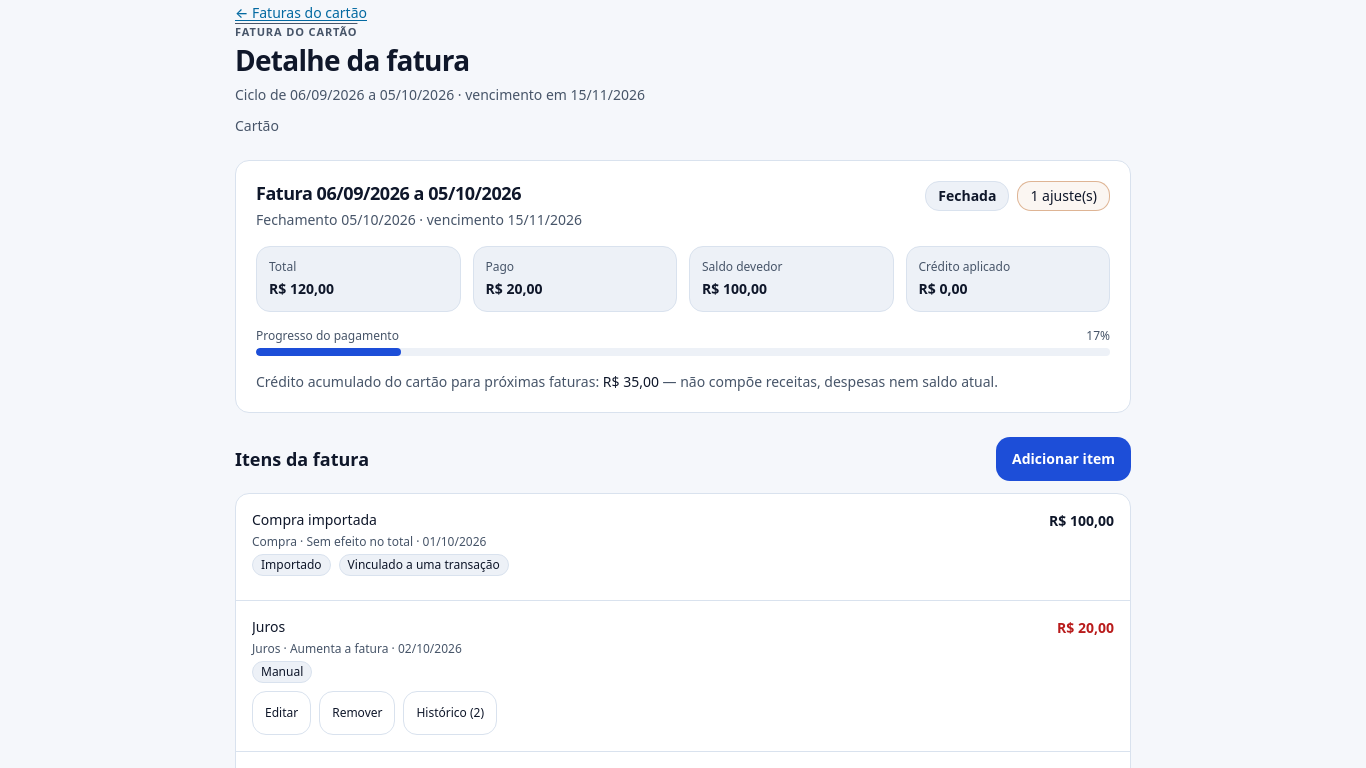
Scenario: detalhe da fatura › adiciona item manual e abre histórico de correções
Expected: the text "Juros" is shown, [252,617,285,636]
Click the button "Adicionar item". click: click(1064, 459)
box: [996,437,1131,481]
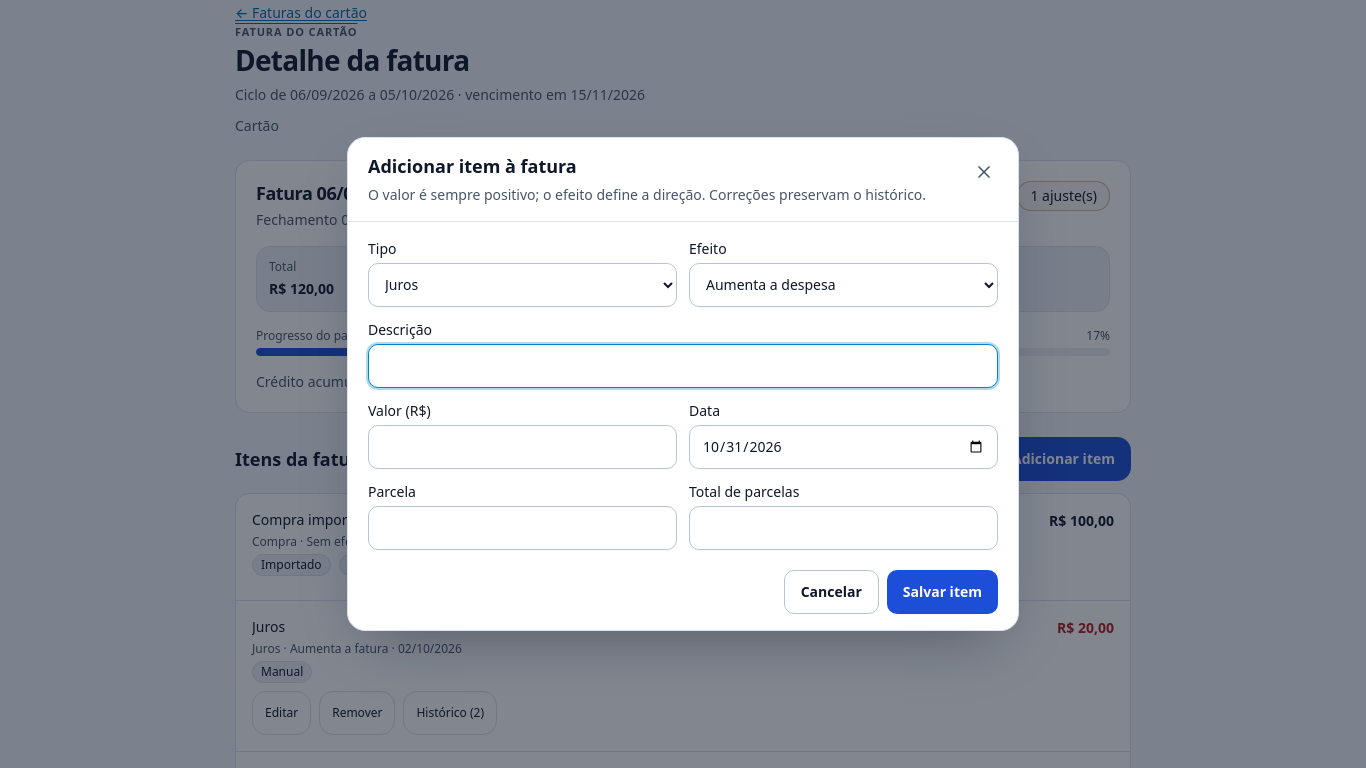
Select "Encargo" in the dropdown labelled "Tipo". click: (522, 285)
box: [368,263,677,307]
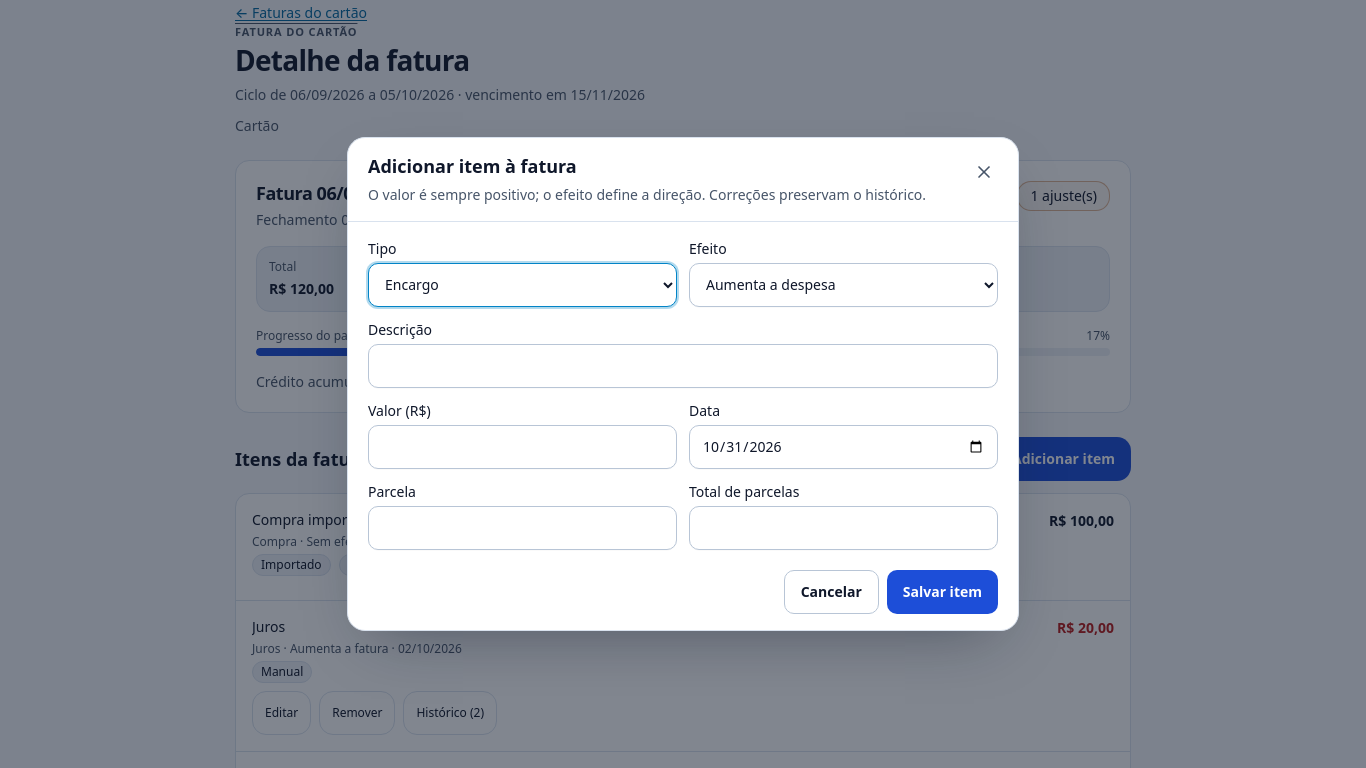
Type "Tarifa" into the field labelled "Descrição". click: (683, 366)
box: [368,344,998,388]
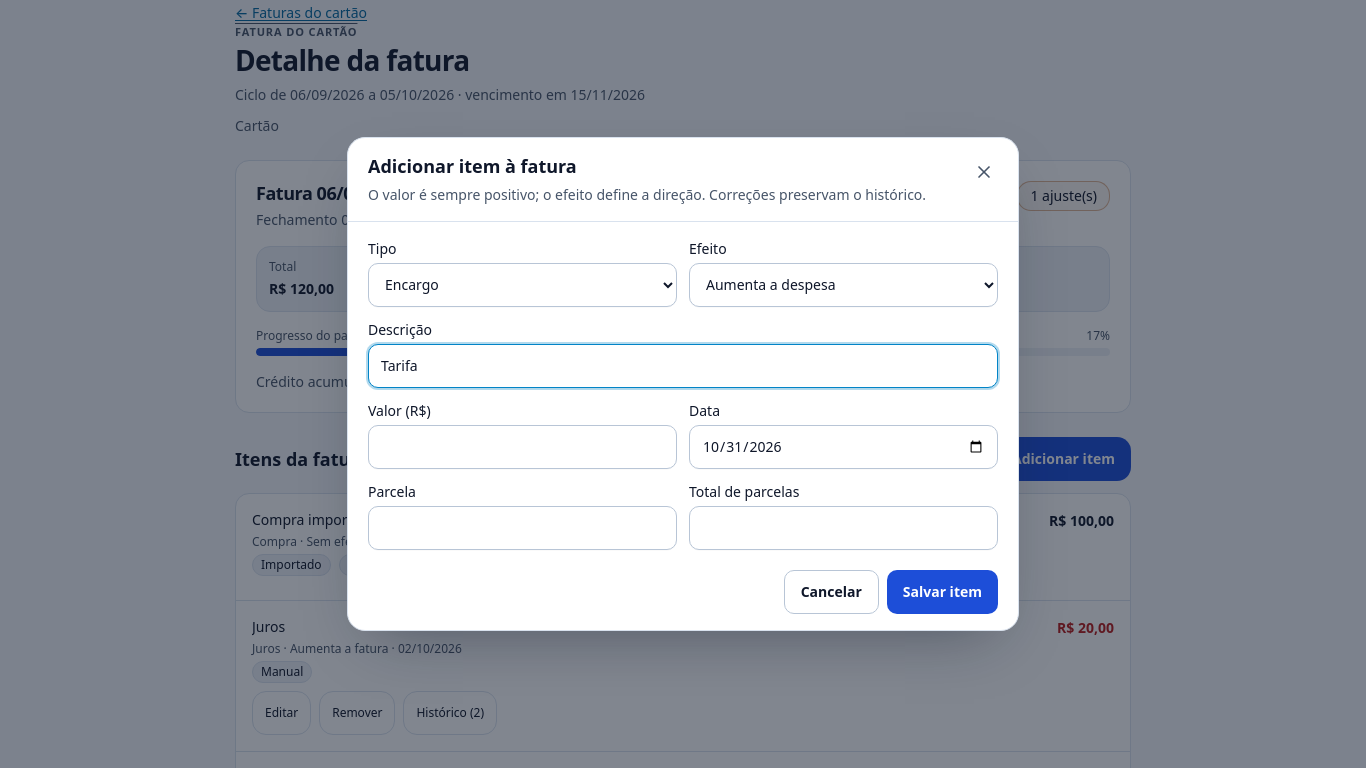
Type "9,90" into the field labelled "Valor (R$)". click: (522, 447)
box: [368,425,677,469]
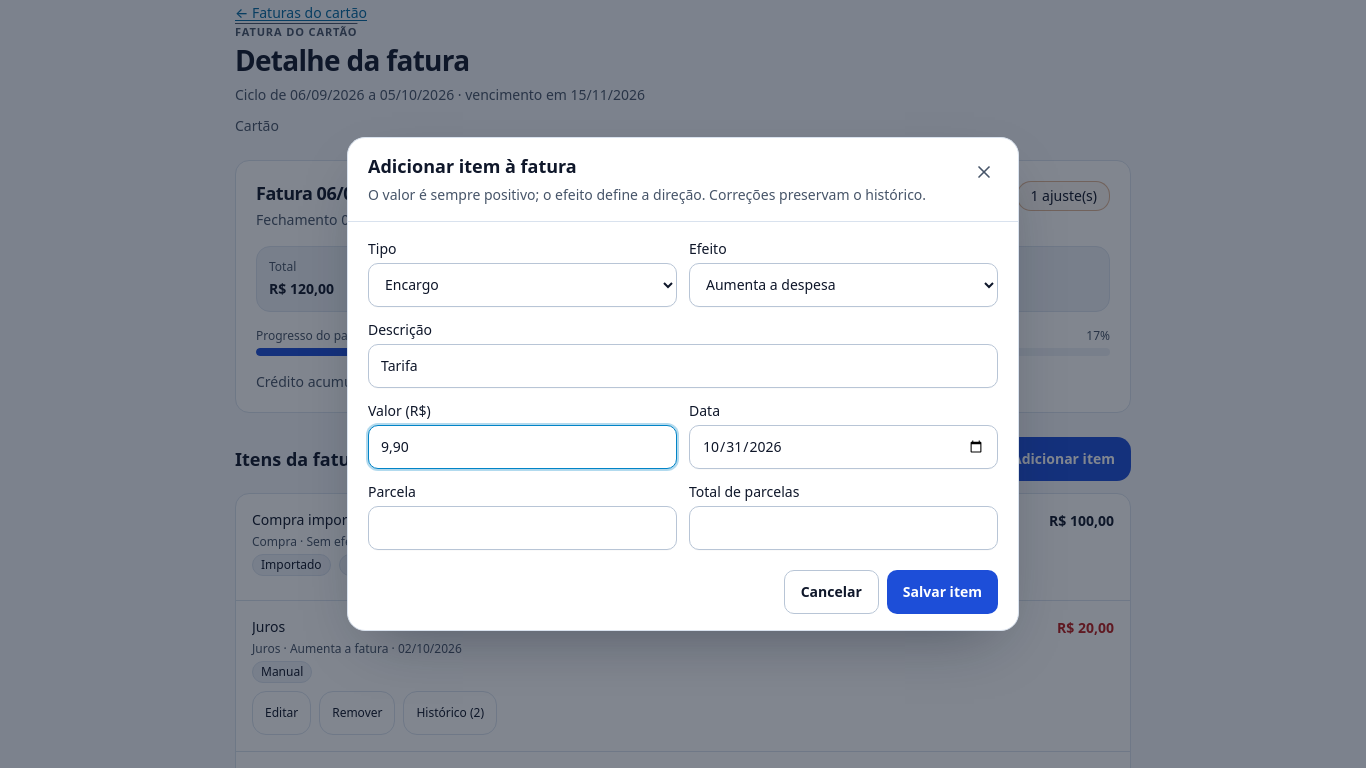
Click the button "Salvar item". click: click(942, 592)
box: [887,570,998,614]
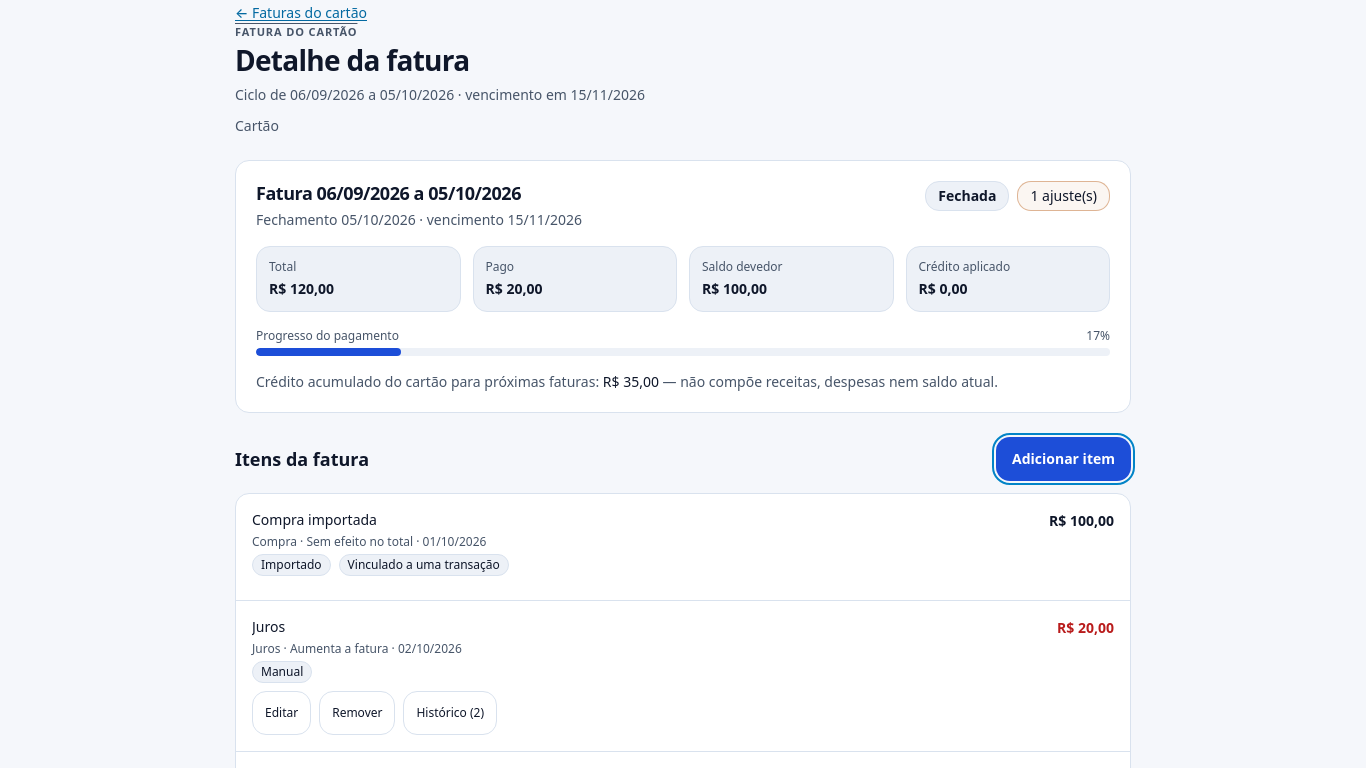
Click the button "Histórico (2)". click: click(450, 713)
box: [404,691,497,735]
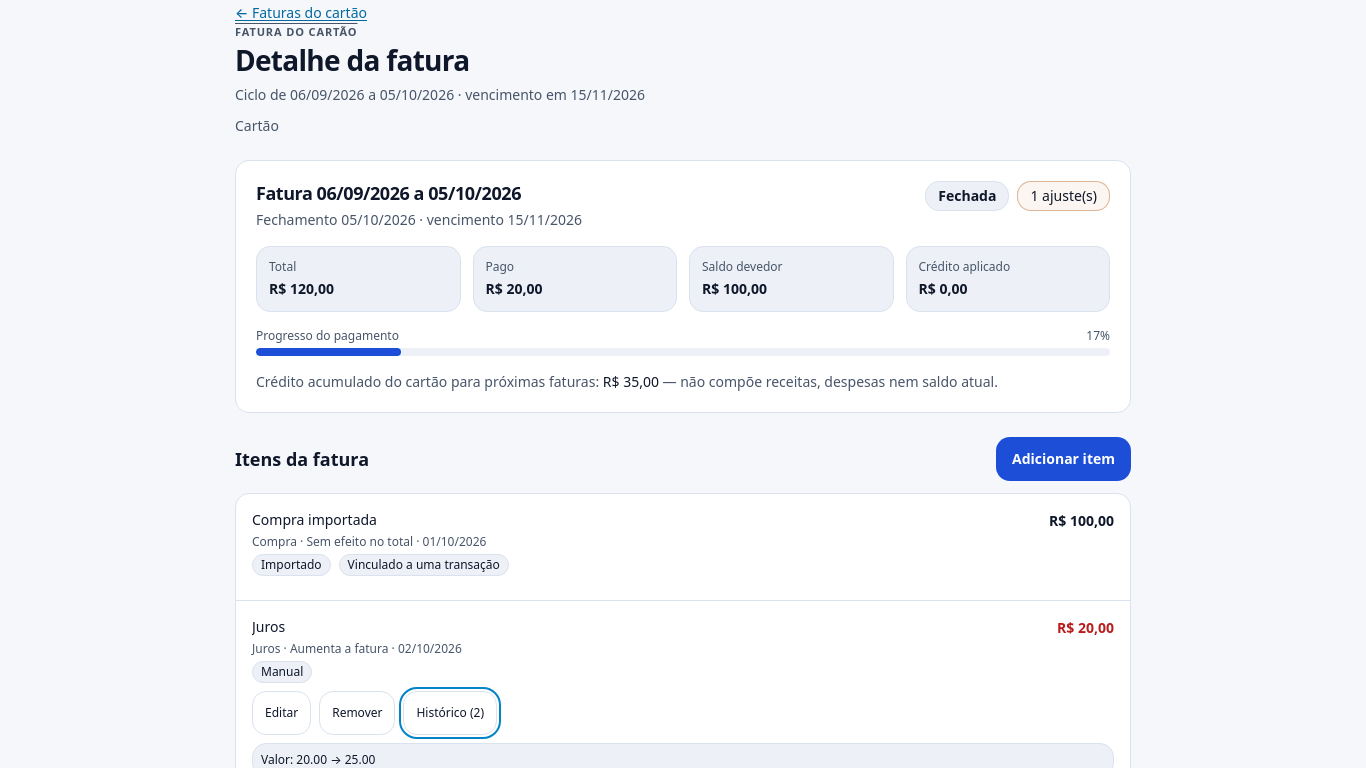
Now the list item "Valor: 20.00 → 25.00" is shown, box [261,751,375,767]
